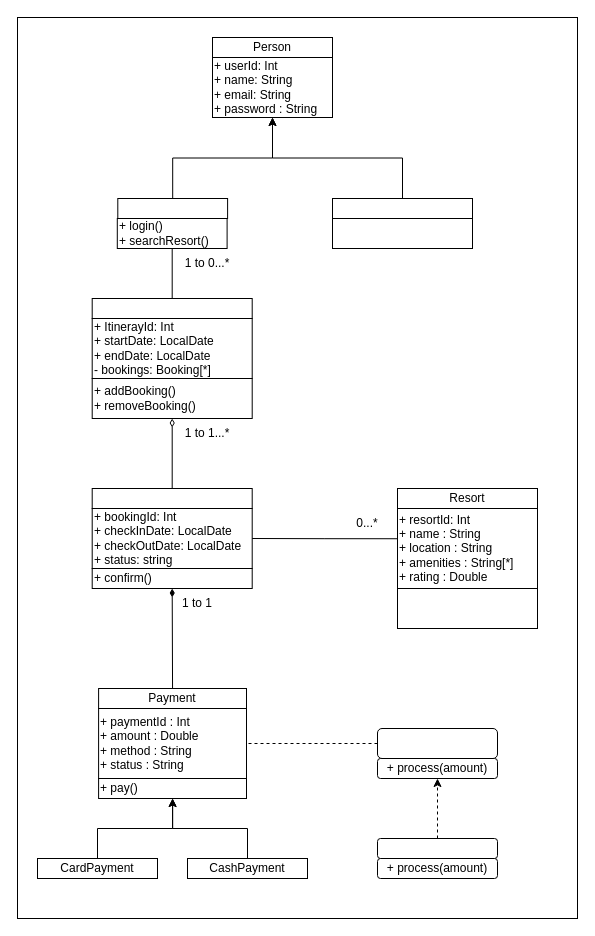
Image size: 595x936. Some labels were removed from this diagram. The shapes that lost their labels are listed below. From the top down, each one's box as (x1, y1, x2, y2) in pixels, then its label:
(117, 198, 228, 218): Tourist
(332, 198, 472, 218): ResortAdmin
(332, 218, 472, 248): + login() + resortName : String
(91, 298, 252, 318): Itinerary
(91, 488, 252, 508): Booking
(396, 588, 538, 628): + checkAvailability() + markBooked()
(376, 728, 498, 758): <Interface> PaymentProcessing
(376, 838, 498, 858): CardGateway
